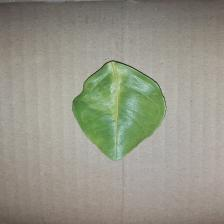greening: (68, 59, 168, 163)
